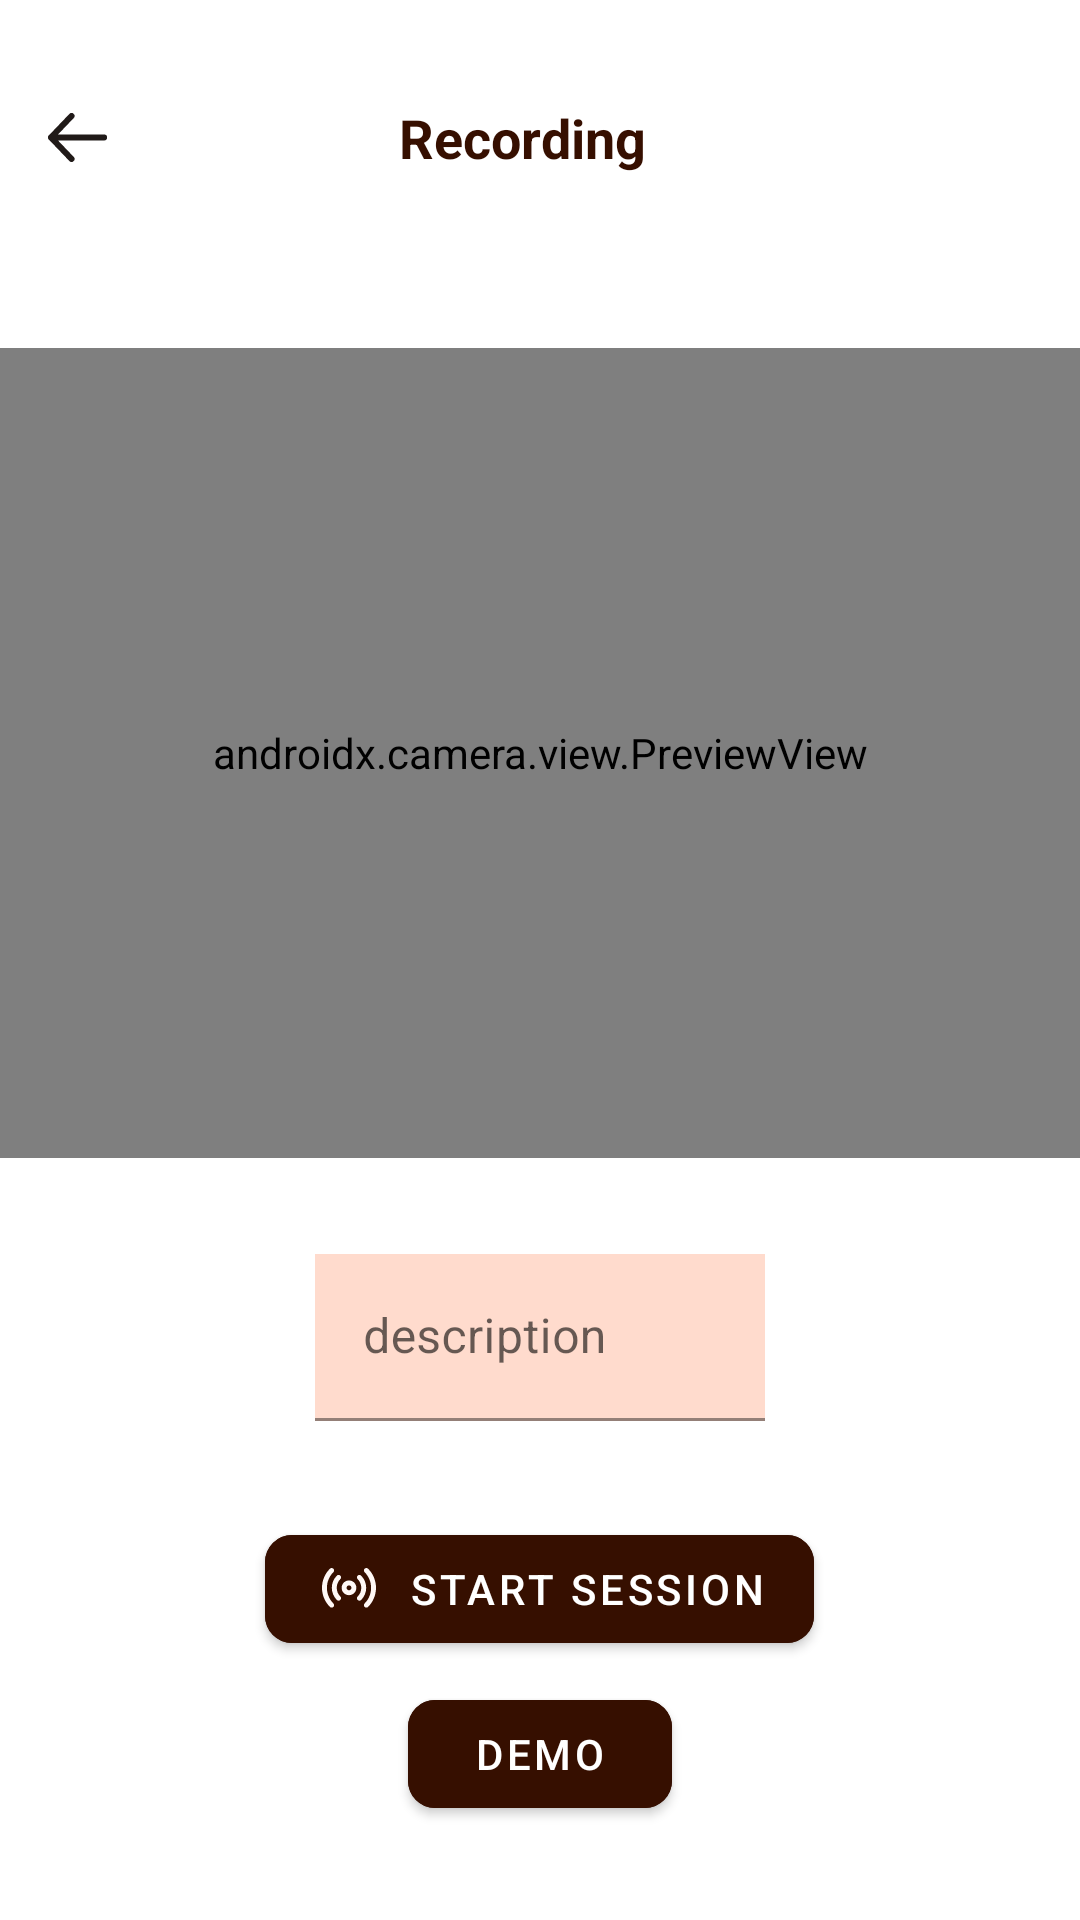

Icon click points for this 1080 × 1920 phone screenshot, format point (x, y):
bek: point (77, 137)
